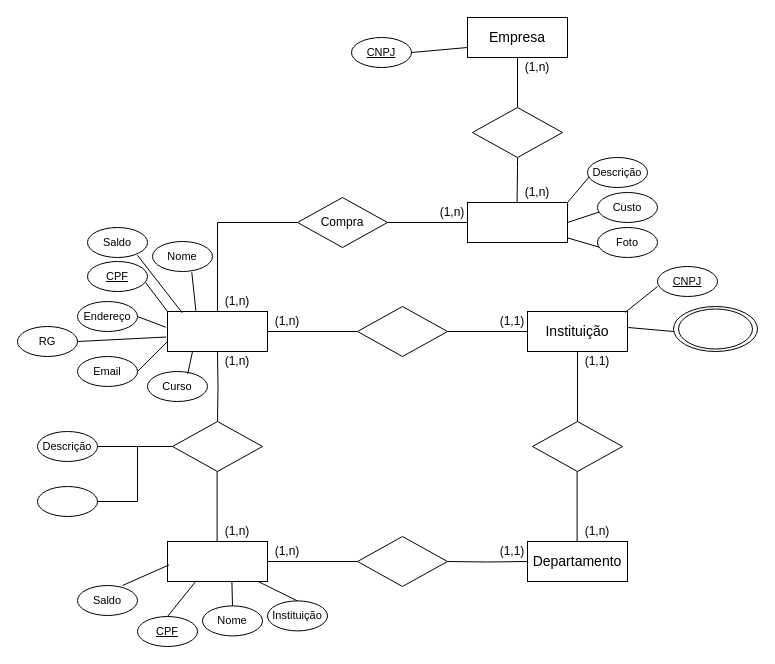
This 775x664 diagram has some shape labels left out. The box of each missing label's shape, as (x1, y1, x2, y2) in pixels:
Aluno: (166, 310, 268, 352)
Cadastra: (356, 306, 448, 356)
Cursos disponíveis: (678, 308, 752, 349)
Oferece: (472, 106, 562, 158)
Pertence: (356, 536, 448, 586)
Possui: (532, 420, 622, 472)
Professor: (166, 540, 268, 582)
Recebe moedas: (172, 420, 262, 472)
Valor: (36, 486, 98, 516)
Vantagem: (466, 202, 568, 242)
